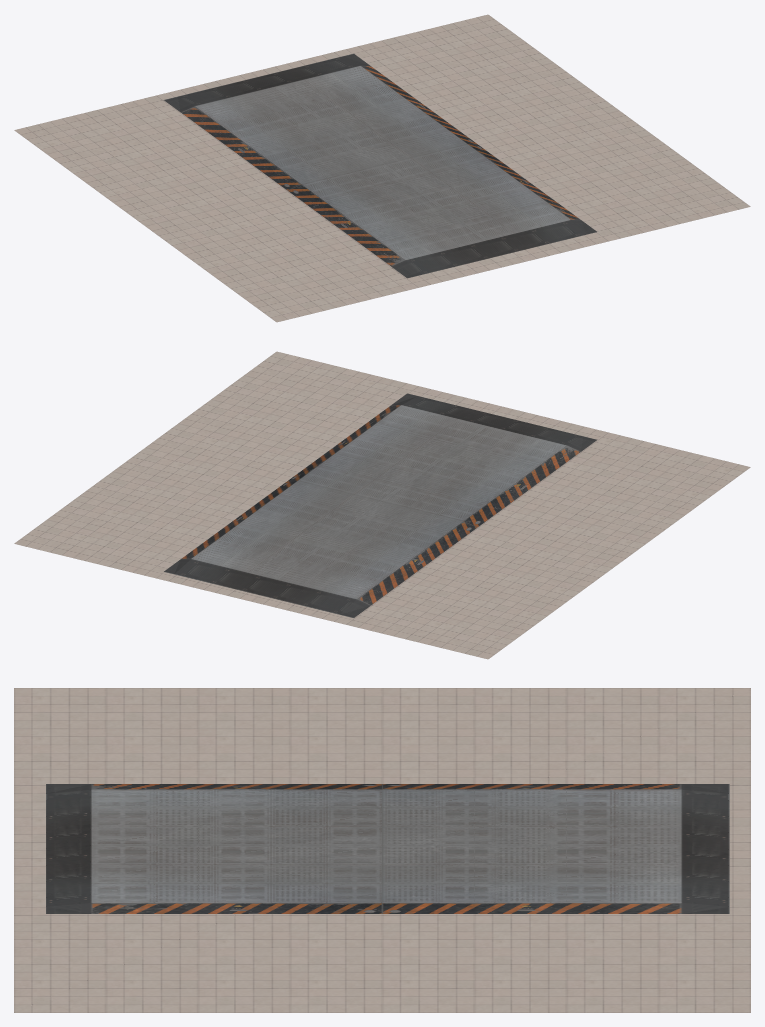
File: floor.dae
3 renders of one model, top to bottom at view 1: azimuth 30°, elevation 25°; view 2: azimuth 150°, elevation 25°; view 3: azimuth 270°, elevation 25°, orthographic. The views are drawn at different scales.
Parts seen in each view (by area): view 1: floorMain, workVolume; view 2: floorMain, workVolume; view 3: floorMain, workVolume.
Part boxes in pixels (<box>): floorMain: <box>14,14,750,322</box>; workVolume: <box>164,53,596,278</box>; floorMain: <box>14,351,750,659</box>; workVolume: <box>164,393,597,617</box>; floorMain: <box>14,688,750,1012</box>; workVolume: <box>46,784,729,913</box>.
Size of the model in its own units: 25.04 by 24.02 by 0.1984.
2 materials, 2 textured.
